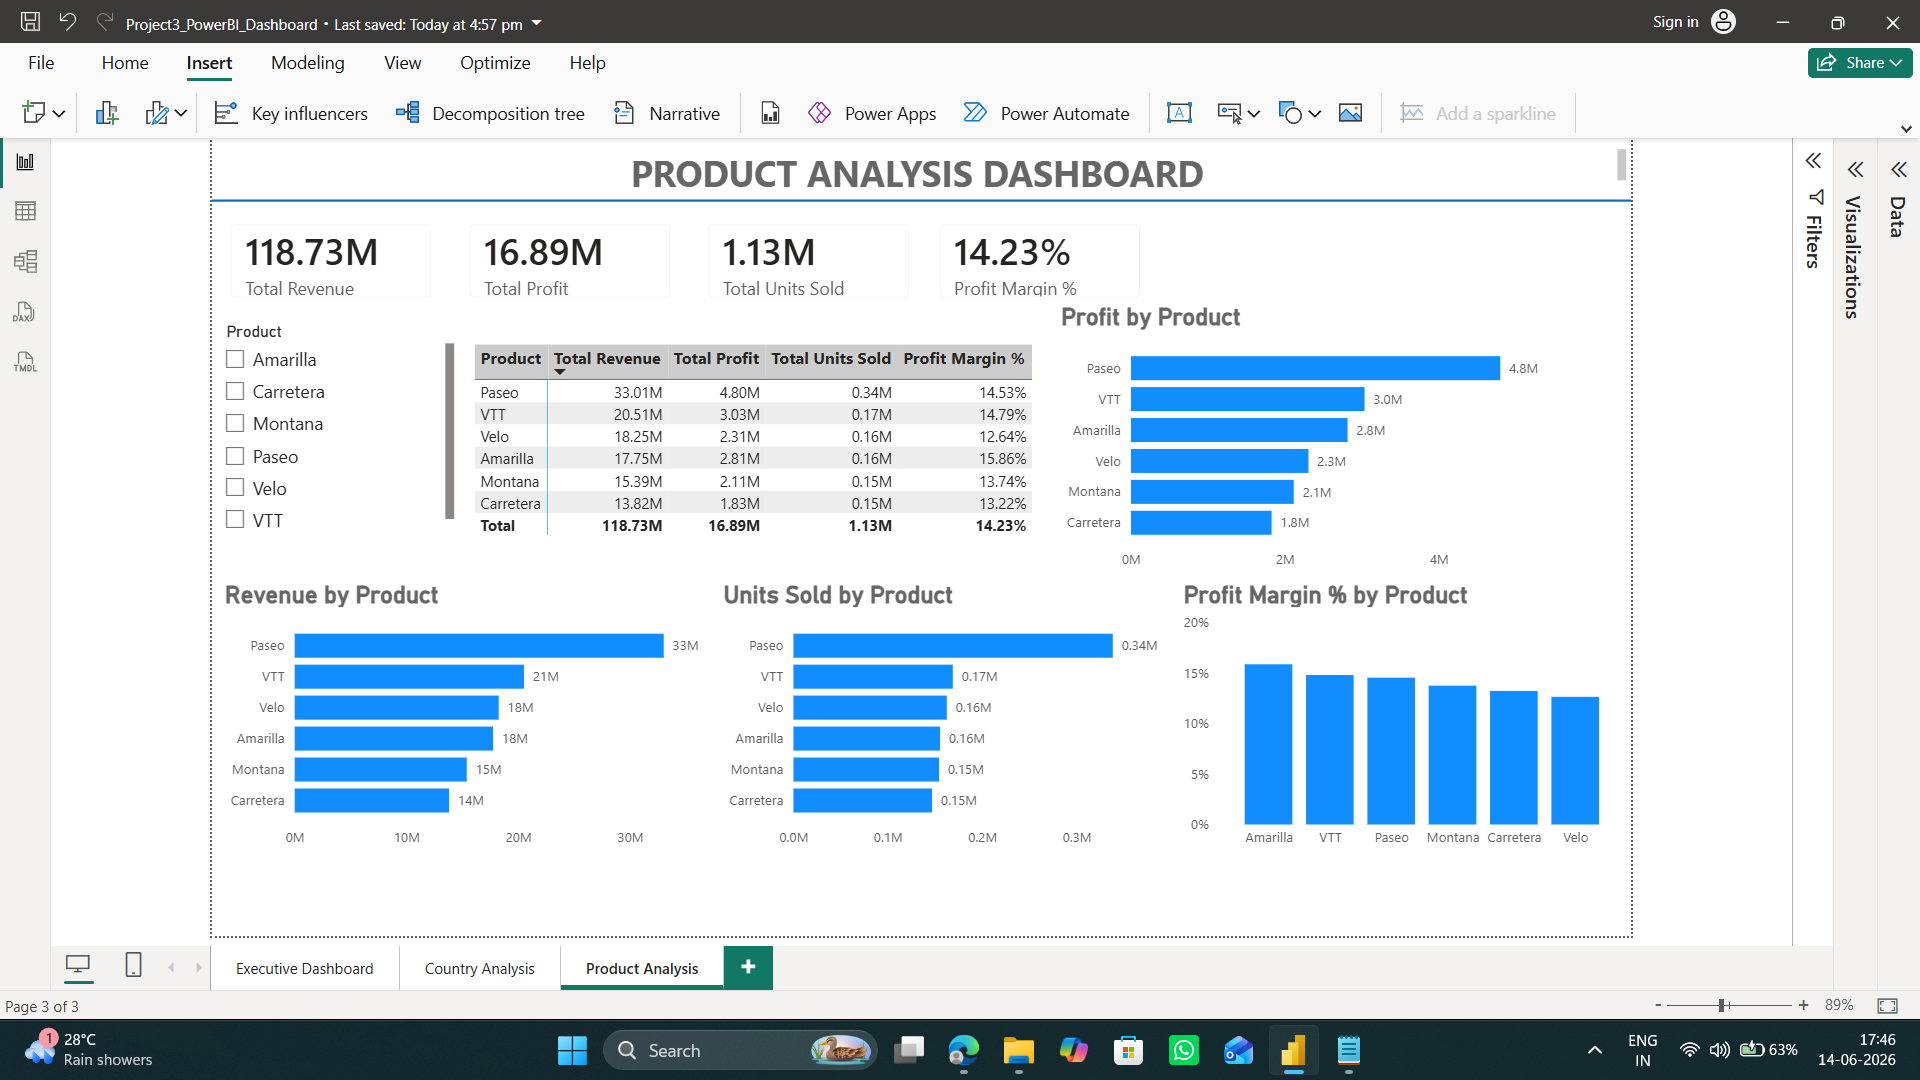

The dashboard page shown, as its layout file describes it:
{"tool":"powerbi","page":{"name":"Product Analysis","canvas":[1280,720],"ordinal":2},"visuals":[{"type":"textbox","box":[0,10.5,1280.2,39.5],"z":0},{"type":"cardVisual","fields":{"Data":["financials.Total Revenue"]},"box":[0,60.5,215.1,100],"z":1000},{"type":"cardVisual","fields":{"Data":["financials.Total Profit"]},"box":[215.1,60.5,215.1,100],"z":2000},{"type":"cardVisual","fields":{"Data":["financials.Total Units Sold"]},"box":[430.2,60.5,215.1,100],"z":3000},{"type":"cardVisual","fields":{"Data":["financials.Profit Margin %"]},"box":[639.5,60.5,215.1,100],"z":4000},{"type":"slicer","fields":{"Values":["financials.Product"]},"box":[0,161.2,223.2,199.5],"z":5000},{"type":"shape","box":[0,53.5,1280.2,7],"z":6000},{"type":"clusteredBarChart","title":"Revenue by Product","fields":{"Category":["financials.Product"],"Y":["financials.Total Revenue"]},"box":[6.8,399,449.7,250.2],"z":7000},{"type":"clusteredBarChart","title":"Profit by Product","fields":{"Category":["financials.Product"],"Y":["financials.Total Profit"]},"box":[760.5,148.8,450,250],"z":8000},{"type":"clusteredBarChart","title":"Units Sold by Product","fields":{"Category":["financials.Product"],"Y":["financials.Total Units Sold"]},"box":[456.5,399,415.9,250.2],"z":9000},{"type":"clusteredColumnChart","fields":{"Y":["financials.Profit Margin %"],"Category":["financials.Product"]},"box":[871.3,399,408,250.2],"z":10000},{"type":"pivotTable","fields":{"Values":["financials.Total Revenue","financials.Total Profit","financials.Total Units Sold","financials.Profit Margin %"],"Rows":["financials.Product"]},"box":[232.2,181.5,515.1,186],"z":11000}]}

Visuals, with their boxes on the page's 1280x720 design canvas (x1, y1, x2, y2). These are canvas units, not pixel positions in the 1920x1080 screenshot, which may show the page scaled, cropped or inside an application window:
textbox: rect(0, 10, 1280, 50)
cardVisual - financials.Total Revenue: rect(0, 60, 215, 160)
cardVisual - financials.Total Profit: rect(215, 60, 430, 160)
cardVisual - financials.Total Units Sold: rect(430, 60, 645, 160)
cardVisual - financials.Profit Margin %: rect(640, 60, 855, 160)
slicer - financials.Product: rect(0, 161, 223, 361)
shape: rect(0, 54, 1280, 60)
"Revenue by Product" clusteredBarChart: rect(7, 399, 456, 649)
"Profit by Product" clusteredBarChart: rect(760, 149, 1210, 399)
"Units Sold by Product" clusteredBarChart: rect(456, 399, 872, 649)
clusteredColumnChart - financials.Profit Margin % x financials.Product: rect(871, 399, 1279, 649)
pivotTable - financials.Total Revenue x financials.Total Profit: rect(232, 182, 747, 368)
